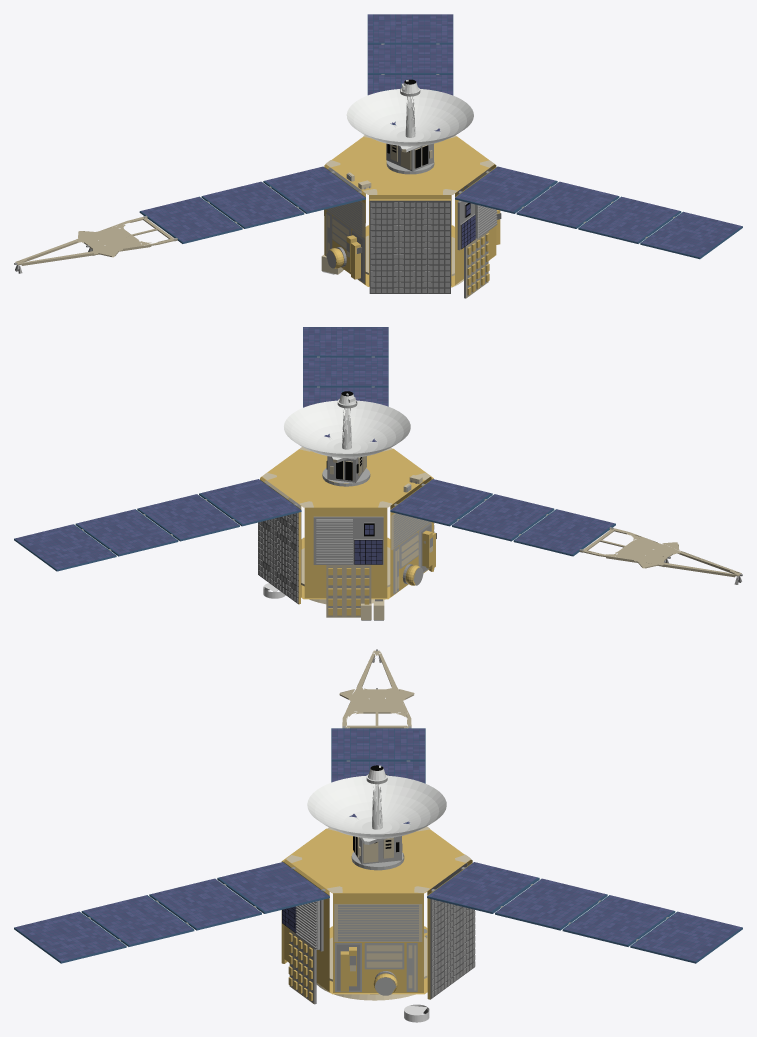
File: JunoB.glb
3 views of the same model, one above another, from view 1: azimuth 30°, elevation 25°; view 2: azimuth 150°, elevation 25°; view 3: azimuth 270°, elevation 25° (orthographic). The views are drawn at different scales.
Visible parts, largest first — view 1: Layer_0; view 2: Layer_0; view 3: Layer_0.
Part boxes in pixels (<box>): Layer_0: <box>14,14,742,298</box>; Layer_0: <box>14,327,742,620</box>; Layer_0: <box>14,649,742,1022</box>.
Size of the model in its own units: 23.26 by 7.77 by 22.92.
